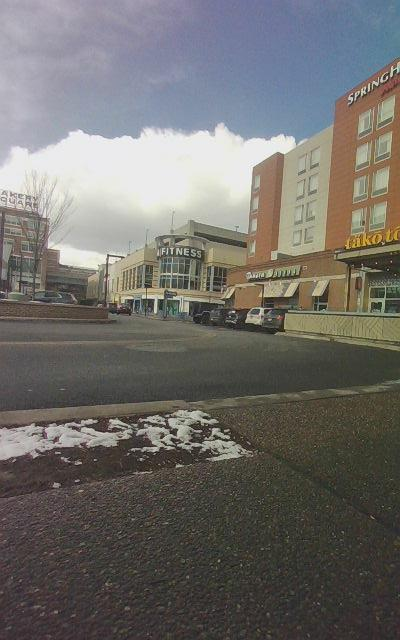curb: (0, 379, 399, 639)
road: (1, 315, 399, 410)
